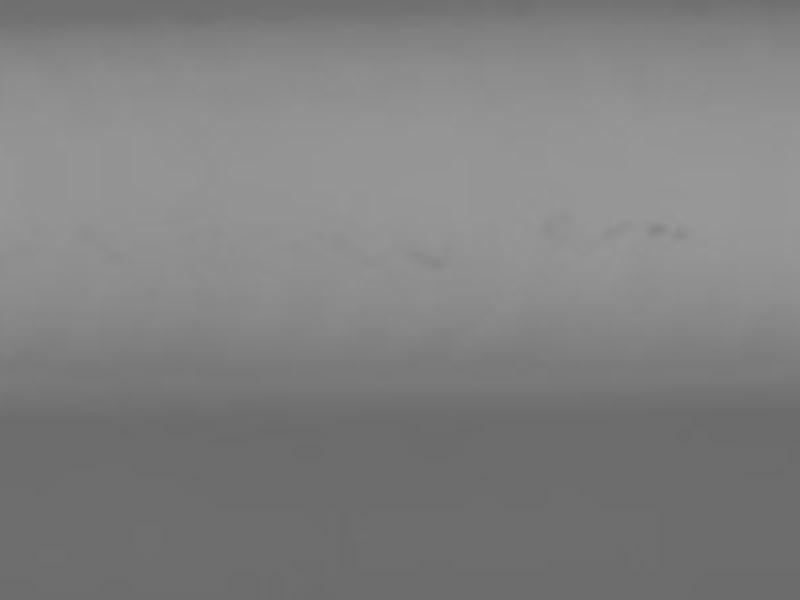defect: (413, 251, 446, 273), (604, 224, 631, 241), (649, 219, 667, 239), (543, 221, 559, 241), (677, 224, 692, 244)
